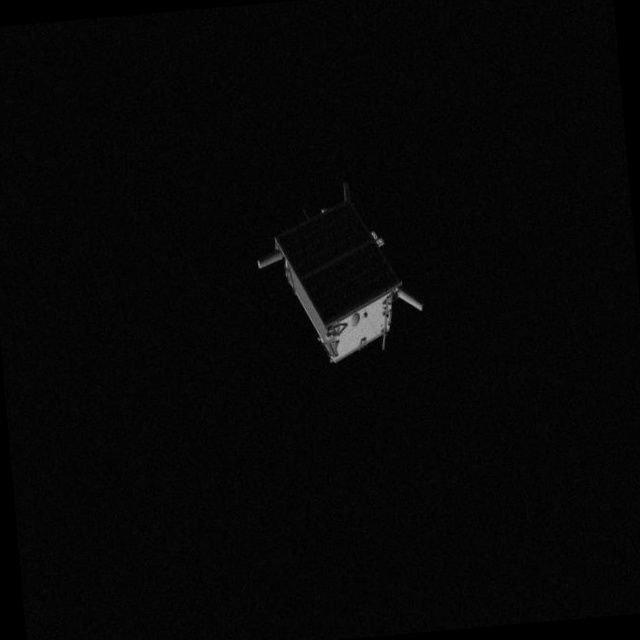satellite: (249, 177, 434, 377)
